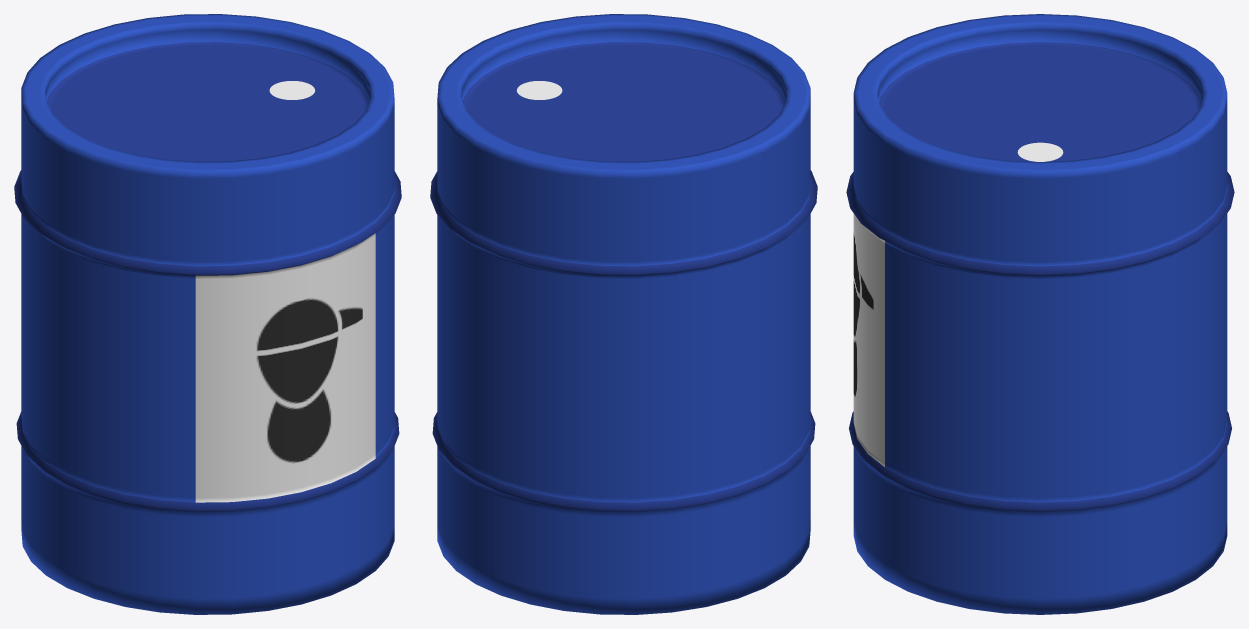
File: Worker_Can.fbx
The picture shows the model from 3 angles, left to right: view 1: azimuth 30°, elevation 25°; view 2: azimuth 150°, elevation 25°; view 3: azimuth 270°, elevation 25°; orthographic projection.
Visible parts, largest first — view 1: Worker_Can; view 2: Worker_Can; view 3: Worker_Can.
Part boxes in pixels (left/top/right/bottom): Worker_Can: left=14, top=14, right=401, bottom=614; Worker_Can: left=430, top=14, right=817, bottom=614; Worker_Can: left=846, top=14, right=1234, bottom=614.
Size of the model in its own units: 273 by 344 by 273.
